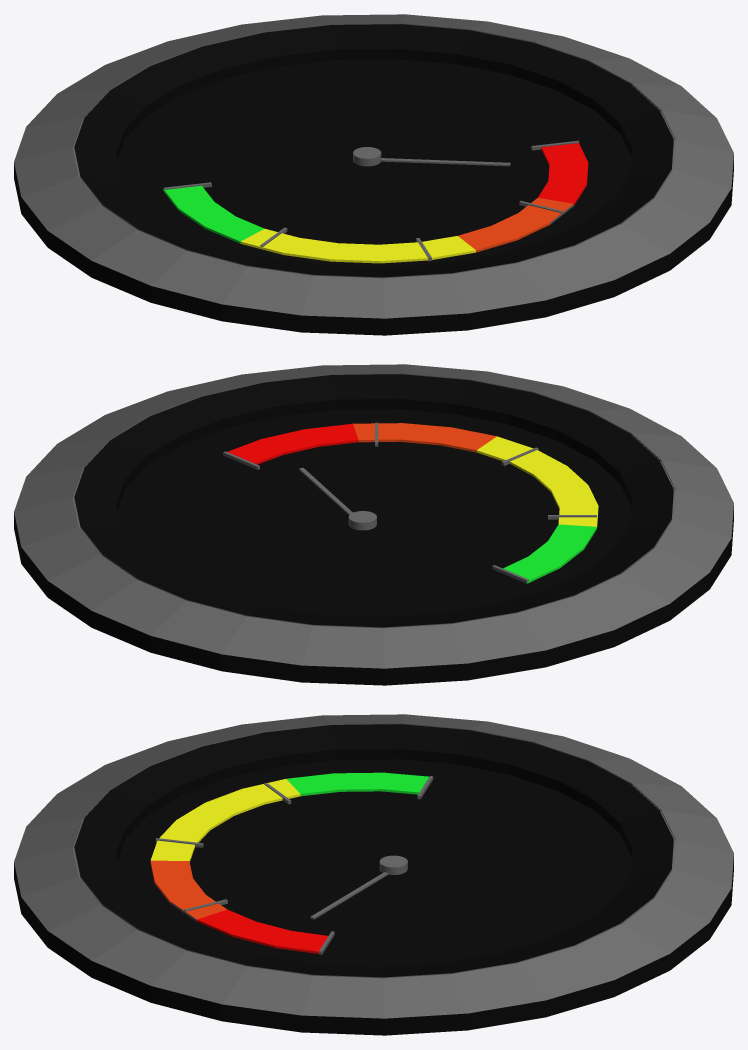
Rendered from ira Speedometer.obj.
3 views of the same model, one above another, from view 1: azimuth 30°, elevation 25°; view 2: azimuth 150°, elevation 25°; view 3: azimuth 270°, elevation 25° (orthographic).
Visible parts, largest first — view 1: Cylinder004, Cylinder005, Box20186; view 2: Cylinder004, Cylinder005; view 3: Cylinder004, Cylinder005.
Boxes of the visible parts, x1,y1,x2,y2 form: Cylinder004: (14, 14, 733, 335); Cylinder005: (163, 143, 588, 263); Box20186: (381, 158, 510, 166); Cylinder004: (14, 364, 733, 685); Cylinder005: (227, 423, 598, 583); Cylinder004: (14, 714, 733, 1035); Cylinder005: (150, 772, 428, 953).
Bounding box in the file's own units: 39205 × 1959 × 39205.
